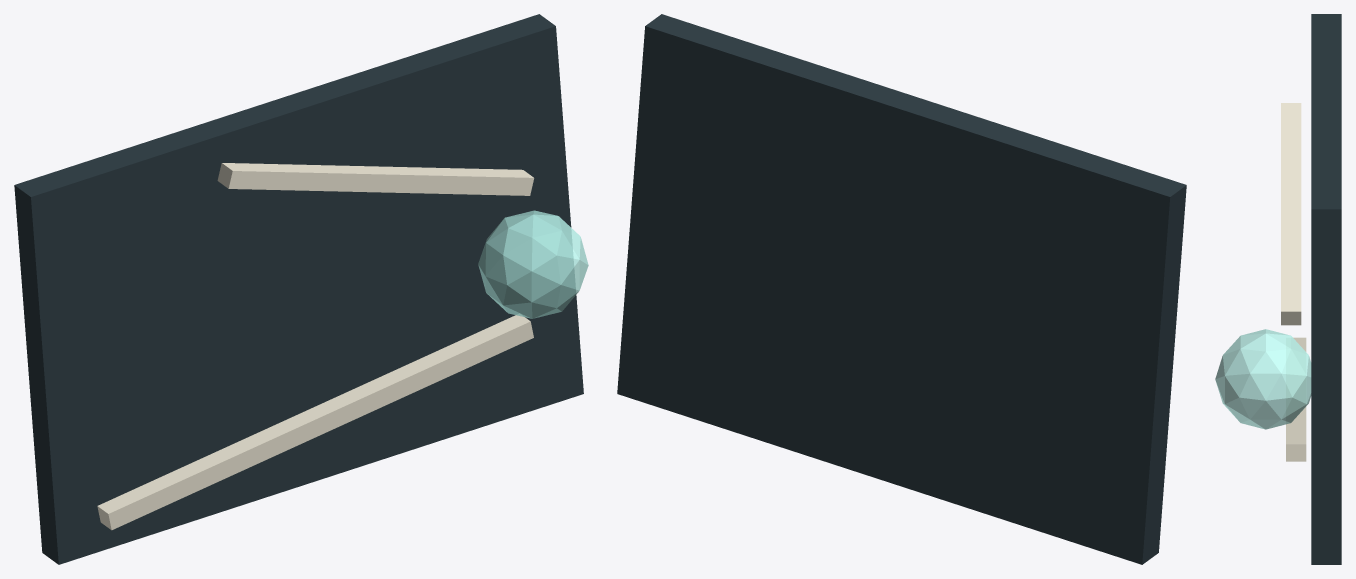
Rendered from 02_world_prop_polish.glb.
3 renders of one model, left to right at view 1: azimuth 30°, elevation 25°; view 2: azimuth 150°, elevation 25°; view 3: azimuth 270°, elevation 25°, orthographic. The views are drawn at different scales.
Visible parts, largest first — view 1: object_overlay_plate, edge_wear_a, glow_socket, edge_wear_b; view 2: object_overlay_plate; view 3: object_overlay_plate, glow_socket, edge_wear_b, edge_wear_a.
Boxes of the visible parts, bbox=[...] form: object_overlay_plate: bbox=[14, 14, 583, 564]; edge_wear_a: bbox=[97, 314, 533, 530]; glow_socket: bbox=[478, 210, 588, 318]; edge_wear_b: bbox=[217, 163, 534, 195]; object_overlay_plate: bbox=[617, 14, 1186, 564]; object_overlay_plate: bbox=[1311, 14, 1341, 564]; glow_socket: bbox=[1215, 329, 1311, 429]; edge_wear_b: bbox=[1281, 103, 1301, 325]; edge_wear_a: bbox=[1286, 337, 1306, 461].
Bounding box in the file's own units: 1.16 × 0.8333 × 0.25.
